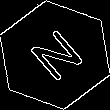N_SE: (22, 23, 88, 87)
